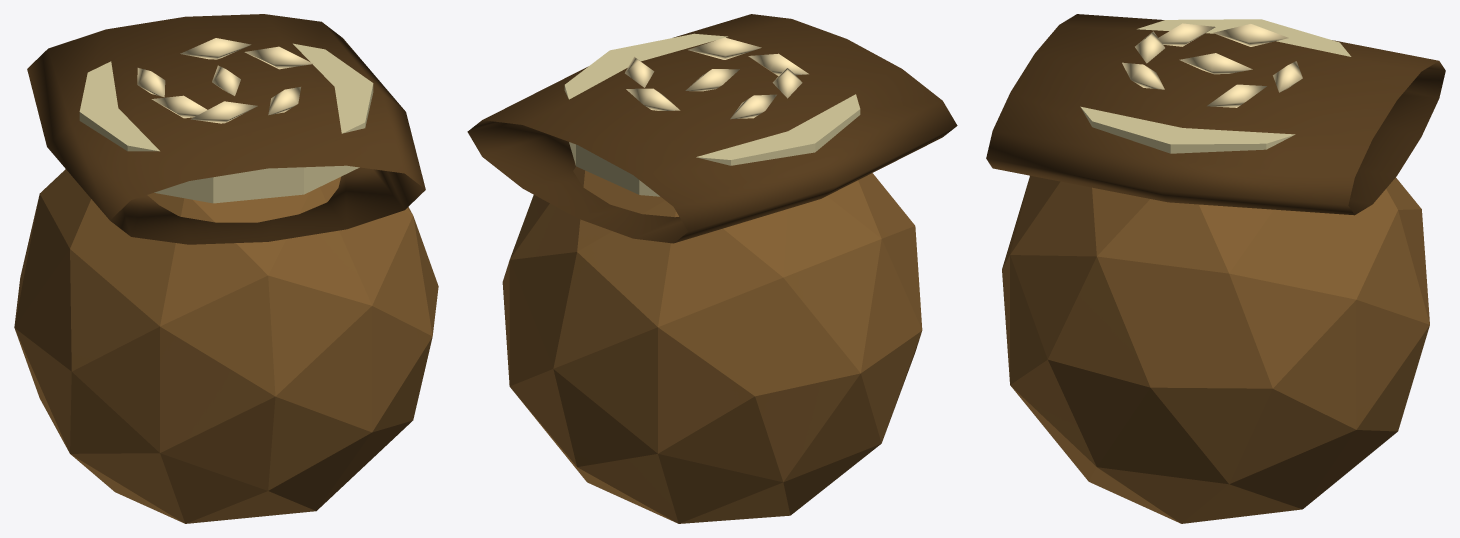
The model's file is pile-milledRice-1.obj.
3 renders of one model, left to right at view 1: azimuth 30°, elevation 25°; view 2: azimuth 150°, elevation 25°; view 3: azimuth 270°, elevation 25°, orthographic. The views are drawn at different scales.
Parts seen in each view (by area): view 1: pile-milledRice-1; view 2: pile-milledRice-1; view 3: pile-milledRice-1.
Boxes of the visible parts, box(x1,y1,x2,y2) form: pile-milledRice-1: box(14, 14, 438, 523); pile-milledRice-1: box(467, 14, 957, 523); pile-milledRice-1: box(986, 14, 1445, 523).
Size of the model in its own units: 0.2515 by 0.2915 by 0.267.
1 material, 1 textured.
